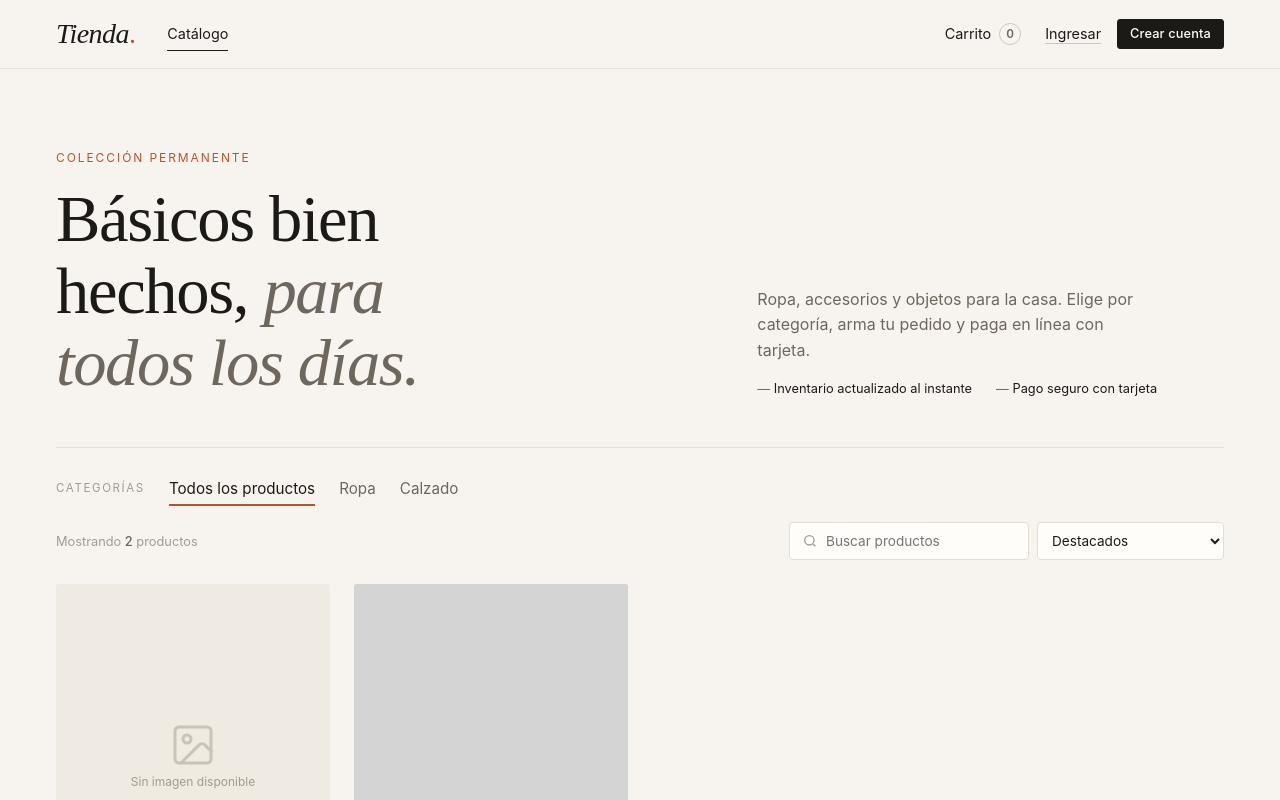
Test: Casos límite del frontend y contrato con la API › 6. Full App Integration & Reactive State Transitions › App transitions to EmptyState when category has 0 products, and resets on button click
The image size is (1280, 800).
// Filter by Calzado using role tab
Click the tab "Calzado".
click(429, 489)  # box [400,472,458,506]
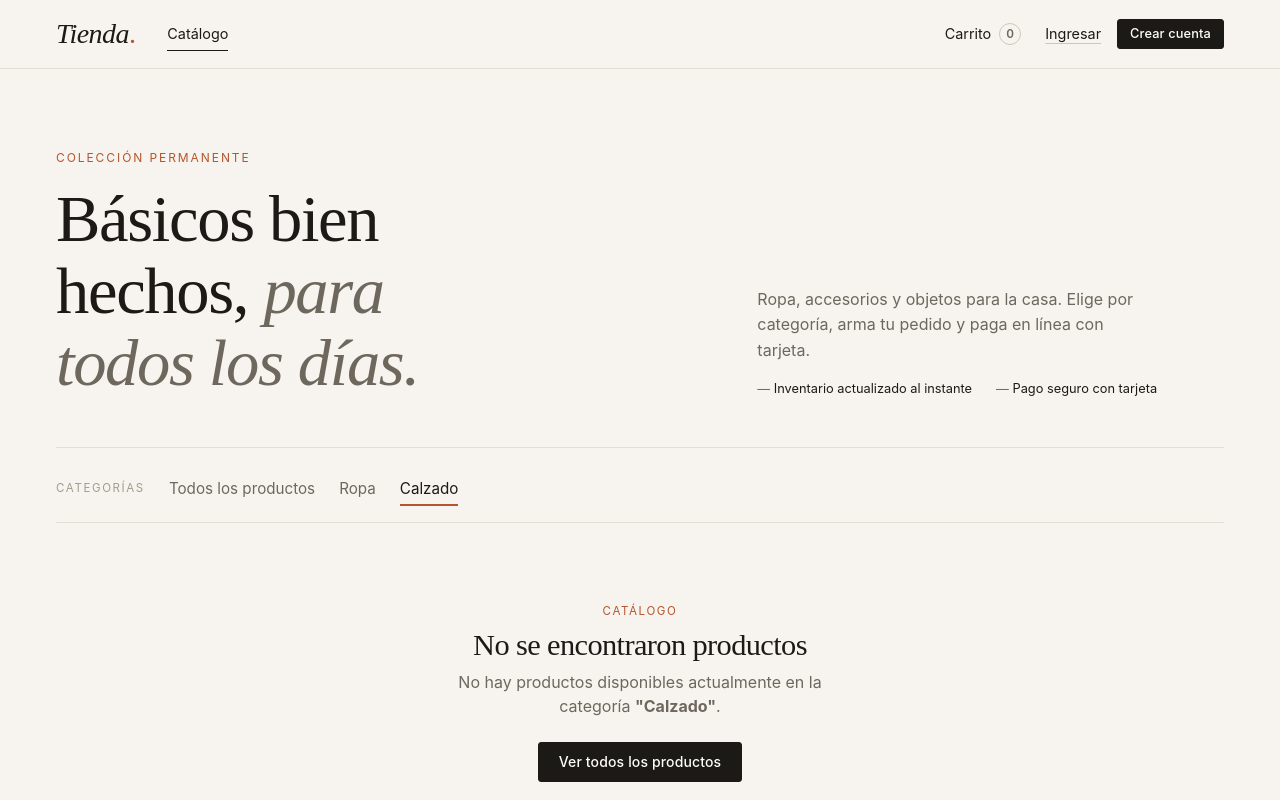
Check: the heading "No se encontraron productos" is shown, box [473,629,807,662]
Check: the text "\"Calzado\"" is shown, box [635,696,716,716]
Click the button "Ver todos los productos".
click(640, 762)  # box [538,742,742,782]
(page scrolled)
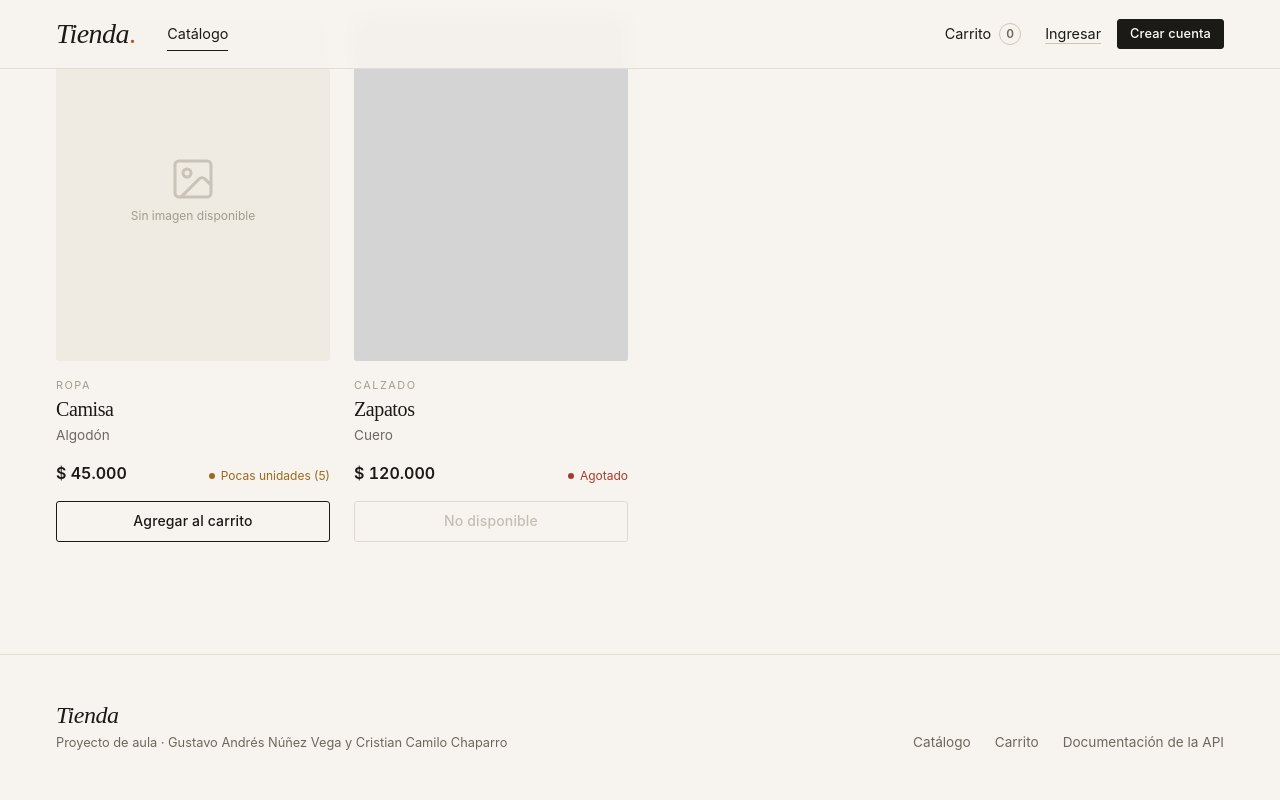
Check: the heading "Camisa" is shown, box [56,398,114,420]
Check: the heading "Zapatos" is shown, box [354,398,414,420]
